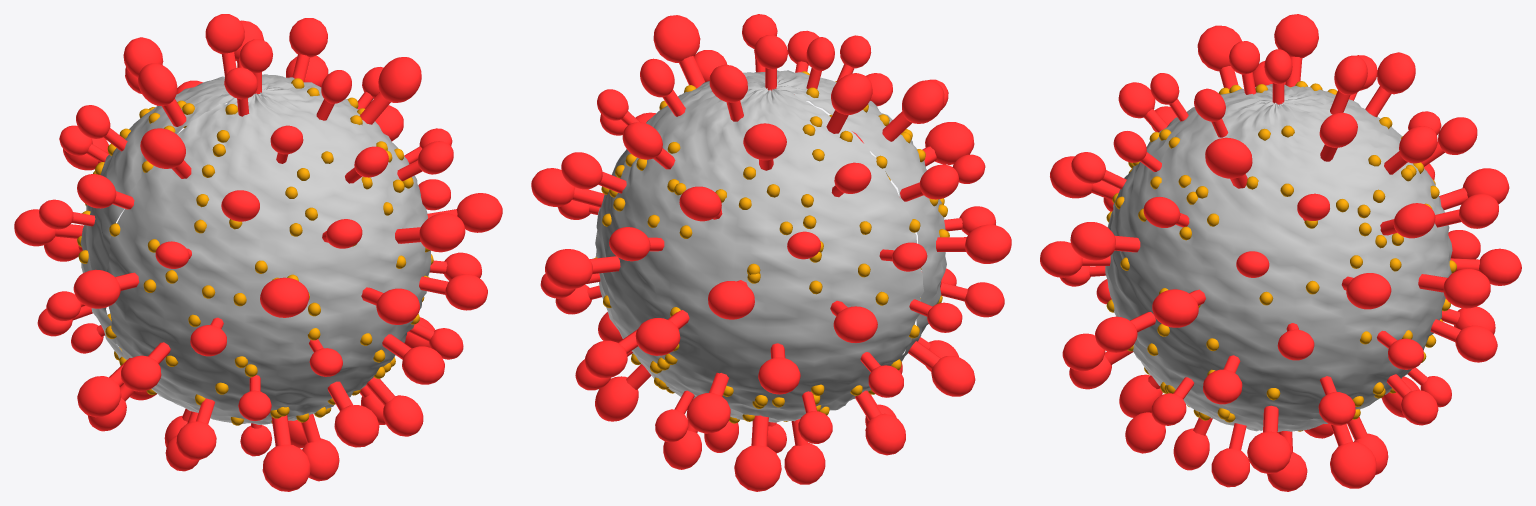
The model's file is covid_19_virus.glb.
The picture shows the model from 3 angles, left to right: view 1: azimuth 30°, elevation 25°; view 2: azimuth 150°, elevation 25°; view 3: azimuth 270°, elevation 25°; orthographic projection.
Bounding box in the file's own units: 4.07 × 4 × 4.18.
